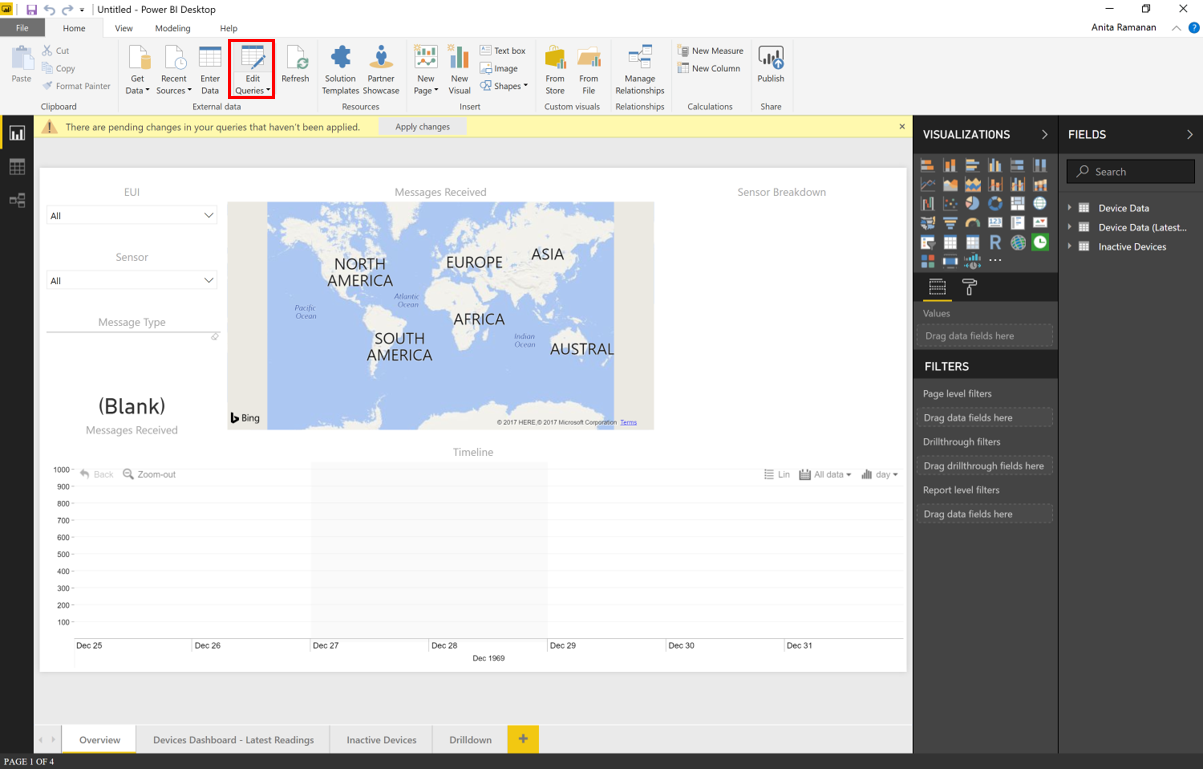

Layout of this report page (visuals, bound fields, positions):
{"tool":"powerbi","page":{"name":"Overview","canvas":[1280,720],"ordinal":0},"visuals":[{"type":"pieChart","fields":{"Category":["Loriot.Sensor Name"],"Y":["CountNonNull(Loriot.EUI)"]},"box":[912,0,368,368],"z":2},{"type":"slicer","fields":{"Values":["Loriot.EUI"]},"box":[0,0,272,80],"z":4},{"type":"slicer","fields":{"Values":["Loriot.Sensor Name"]},"box":[0,96,272,80],"z":4},{"type":"ChicletSlicer1448559807354","fields":{"Category":["Loriot.Message Type"]},"box":[0,192,272,80],"z":5},{"type":"card","fields":{"Values":["Loriot.Messages Received"]},"box":[0,288,272,96],"z":5},{"type":"ZoomChartsTimeChartFree33C9F325D337408C98D4E1D4E1EAD705","fields":{"Category":["Loriot.Timestamp (Gateway)"],"Values":["CountNonNull(Loriot.EUI)"]},"box":[0,384,1280,336],"z":5},{"type":"map","fields":{"Y":["Loriot.Device Latitude"],"X":["Loriot.Device Longitude"],"Size":["Loriot.Messages Received"]},"box":[272,0,640,368],"z":6}]}

Visuals, with their boxes on the page's 1280x720 design canvas (x1, y1, x2, y2). These are canvas units, not pixel positions in the 1203x769 screenshot, which may show the page scaled, cropped or inside an application window:
pieChart - Loriot.Sensor Name x CountNonNull(Loriot.EUI): {"left": 912, "top": 0, "right": 1280, "bottom": 368}
slicer - Loriot.EUI: {"left": 0, "top": 0, "right": 272, "bottom": 80}
slicer - Loriot.Sensor Name: {"left": 0, "top": 96, "right": 272, "bottom": 176}
ChicletSlicer1448559807354 - Loriot.Message Type: {"left": 0, "top": 192, "right": 272, "bottom": 272}
card - Loriot.Messages Received: {"left": 0, "top": 288, "right": 272, "bottom": 384}
ZoomChartsTimeChartFree33C9F325D337408C98D4E1D4E1EAD705 - Loriot.Timestamp (Gateway) x CountNonNull(Loriot.EUI): {"left": 0, "top": 384, "right": 1280, "bottom": 720}
map - Loriot.Device Latitude x Loriot.Device Longitude: {"left": 272, "top": 0, "right": 912, "bottom": 368}
